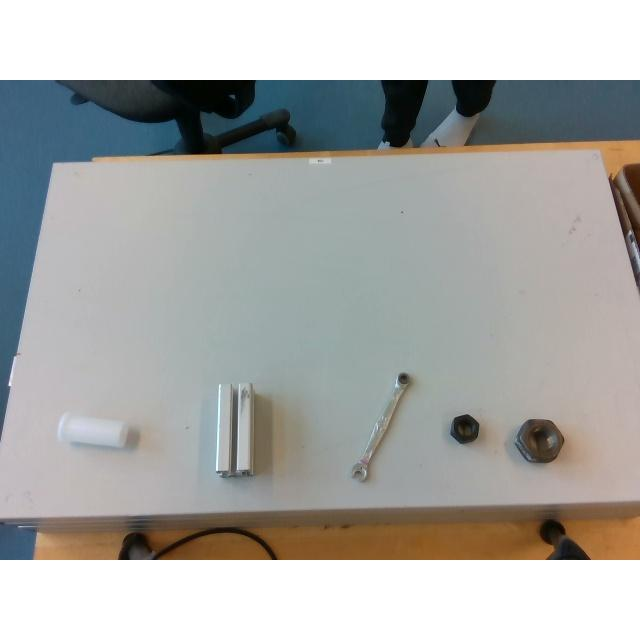M20: (449, 413, 478, 442)
M30: (514, 418, 562, 462)
S40_40_G: (215, 384, 253, 476)
Spacer: (56, 412, 132, 448)
Wrench: (350, 372, 410, 481)
